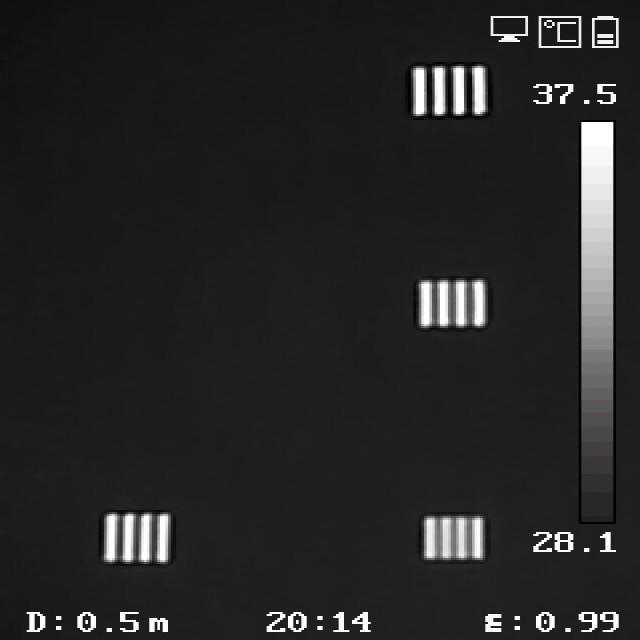Distinguishable 4-bar target: (404, 65, 496, 119), (104, 510, 175, 563), (417, 275, 487, 328), (421, 513, 488, 561)
